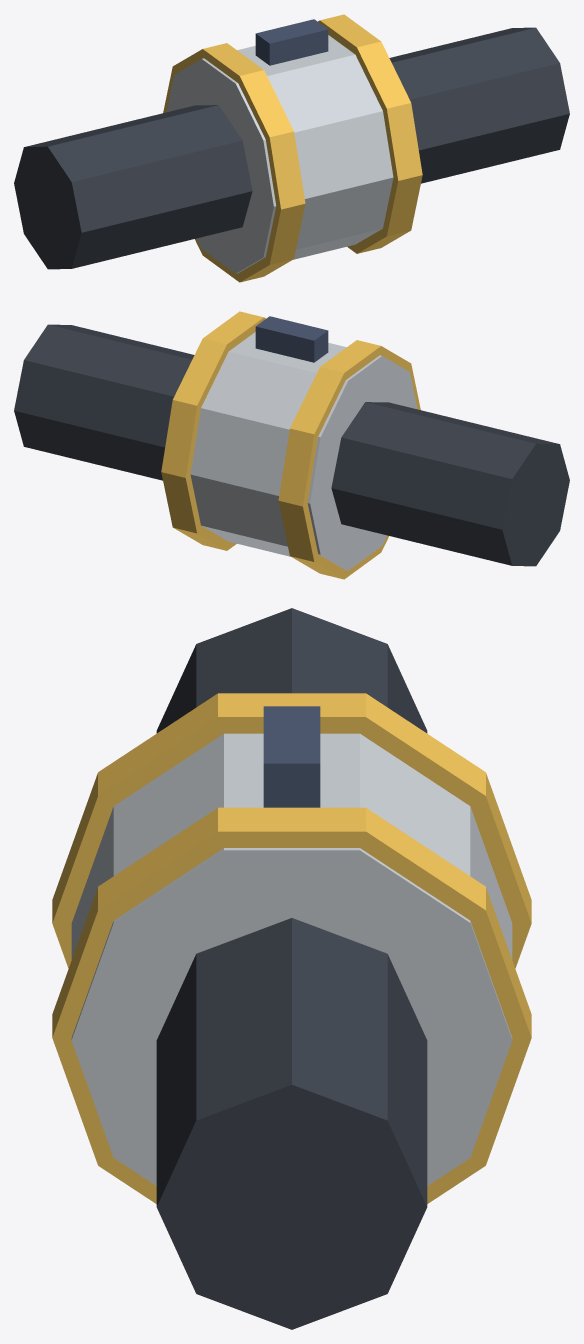
Rendered from pressure_coupling.glb.
The picture shows the model from 3 angles, top to bottom: view 1: azimuth 30°, elevation 25°; view 2: azimuth 150°, elevation 25°; view 3: azimuth 270°, elevation 25°; orthographic projection. The views are drawn at different scales.
Parts seen in each view (by area): view 1: DL016_PressureCoupling_rubber_dark, DL016_PressureCoupling_titanium, DL016_PressureCoupling_amber_accent, DL016_PressureCoupling_graphite_navy; view 2: DL016_PressureCoupling_rubber_dark, DL016_PressureCoupling_titanium, DL016_PressureCoupling_amber_accent, DL016_PressureCoupling_graphite_navy; view 3: DL016_PressureCoupling_rubber_dark, DL016_PressureCoupling_titanium, DL016_PressureCoupling_amber_accent, DL016_PressureCoupling_graphite_navy.
Part boxes in pixels (x1,y1,x2,y2): DL016_PressureCoupling_rubber_dark: [14, 27, 569, 269]; DL016_PressureCoupling_titanium: [166, 35, 393, 273]; DL016_PressureCoupling_amber_accent: [163, 14, 422, 282]; DL016_PressureCoupling_graphite_navy: [255, 19, 328, 65]; DL016_PressureCoupling_rubber_dark: [14, 324, 569, 566]; DL016_PressureCoupling_titanium: [190, 332, 417, 570]; DL016_PressureCoupling_amber_accent: [161, 311, 420, 579]; DL016_PressureCoupling_graphite_navy: [255, 316, 328, 362]; DL016_PressureCoupling_rubber_dark: [156, 608, 427, 1329]; DL016_PressureCoupling_titanium: [71, 733, 512, 1185]; DL016_PressureCoupling_amber_accent: [52, 693, 531, 1203]; DL016_PressureCoupling_graphite_navy: [263, 706, 320, 807].
Bounding box in the file's own units: 1 × 0.4311 × 0.425.
